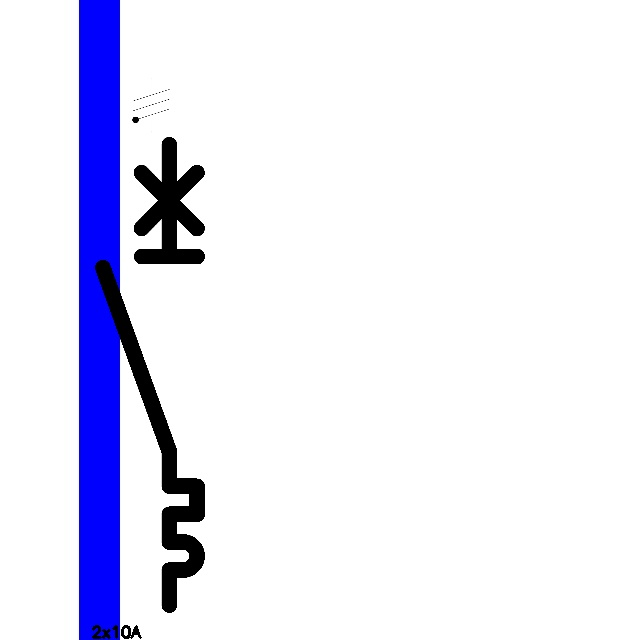interruptor_termomagnetico: (91, 132, 209, 616)
